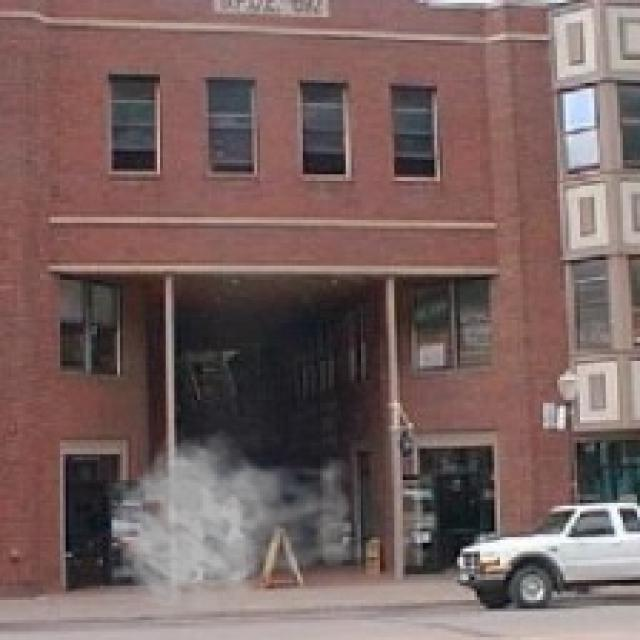smoke: (108, 423, 372, 623)
